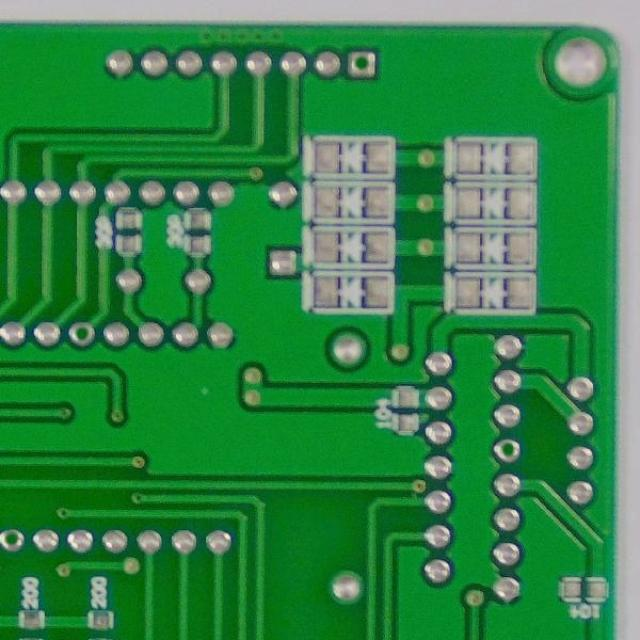missing_hole: (66, 319, 97, 351), (492, 436, 525, 464), (351, 50, 378, 79), (1, 524, 25, 554)
